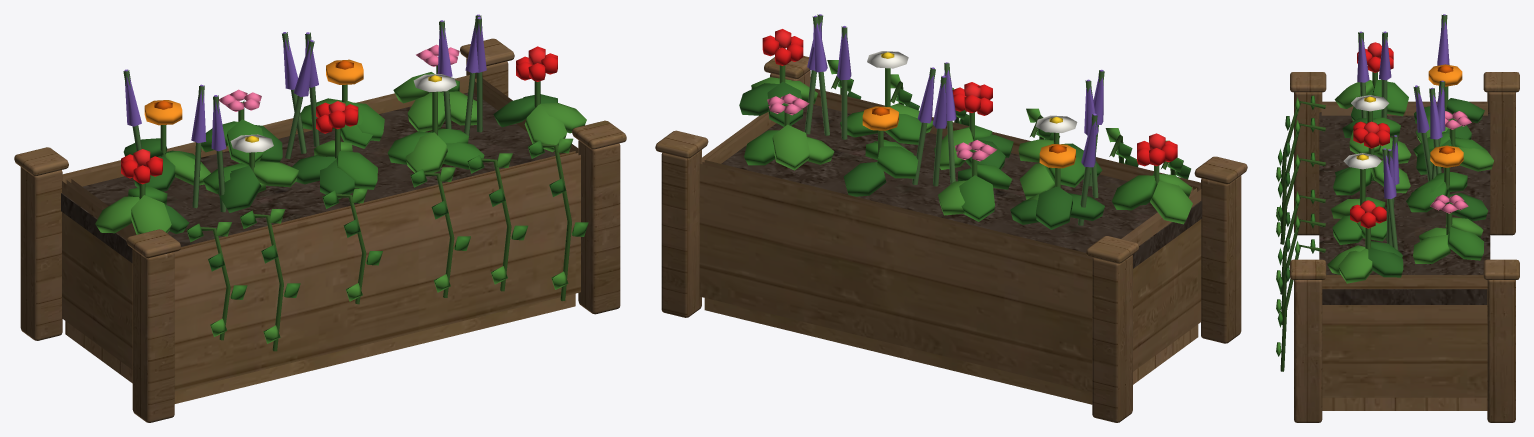
The model's file is planter.glb.
The picture shows the model from 3 angles, left to right: view 1: azimuth 30°, elevation 25°; view 2: azimuth 150°, elevation 25°; view 3: azimuth 270°, elevation 25°; orthographic projection. The views are drawn at different scales.
Visible parts, largest first — view 1: prop; view 2: prop; view 3: prop.
Boxes of the visible parts, left/top/right/bottom form: prop: left=14, top=14, right=626, bottom=422; prop: left=655, top=14, right=1247, bottom=422; prop: left=1276, top=14, right=1519, bottom=422.
Bounding box in the file's own units: 0.844 × 0.4607 × 0.4283.
4 materials, 2 textured.
